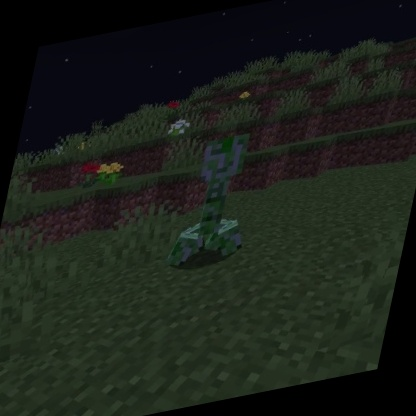creeper: (159, 125, 271, 276)
